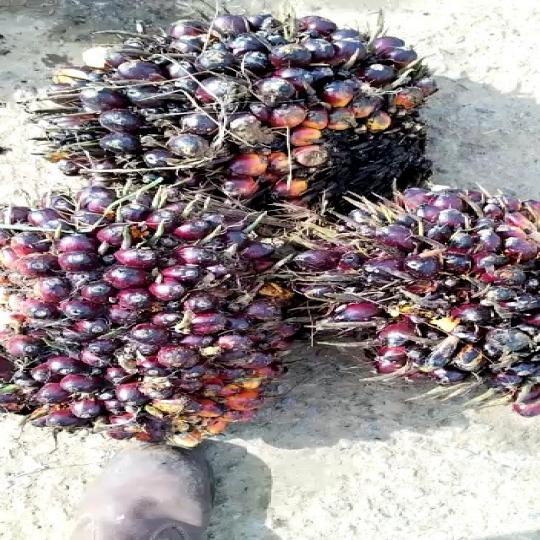kurang masak: (50, 3, 475, 236), (0, 183, 319, 451), (276, 174, 540, 413)
